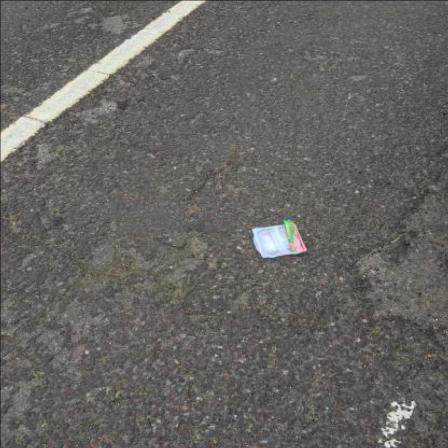Plastic bag - wrapper: (284, 220, 307, 252)
Plastic container: (253, 224, 308, 259)
